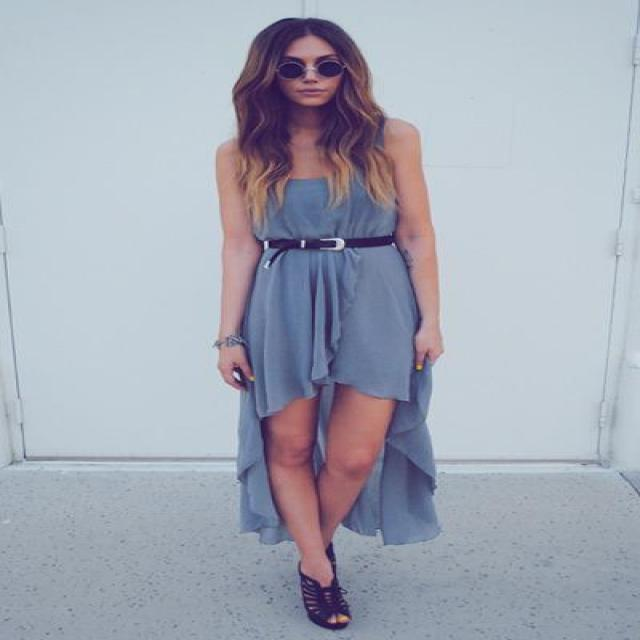dress: (214, 178, 436, 544)
shoe: (301, 576, 350, 630)
sunglass: (314, 56, 351, 88)
